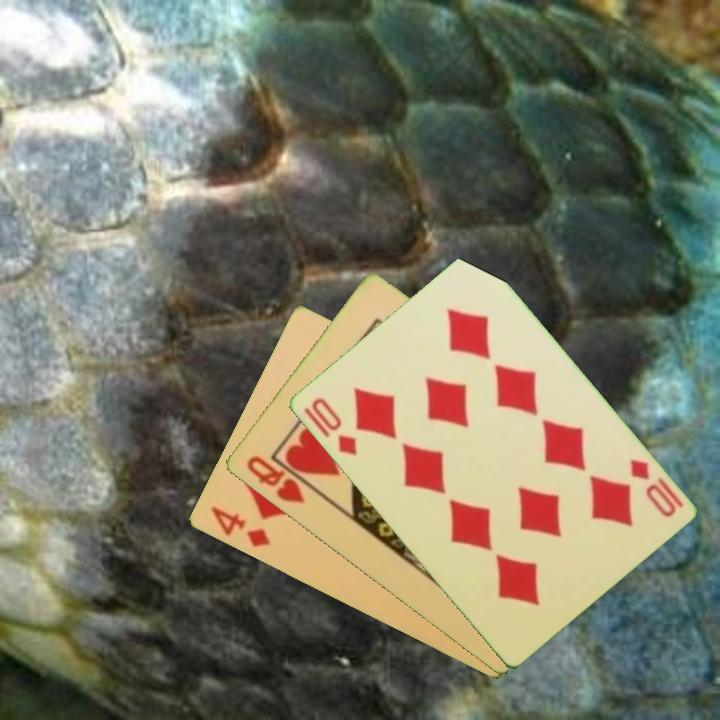10d: (625, 455, 679, 521), (307, 393, 360, 458)
4d: (207, 503, 273, 551)
Qh: (242, 452, 318, 507)
